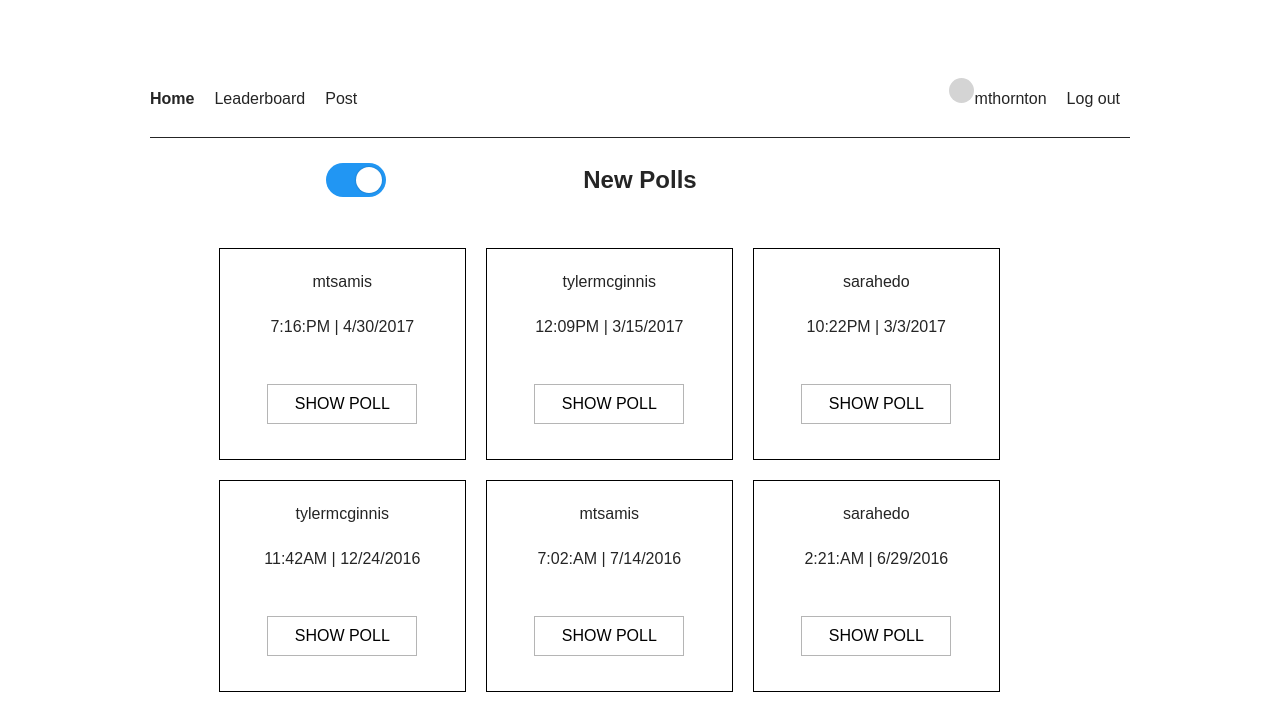
toggle displays correct view
The width and height of the screenshot is (1280, 720).
Expected: the heading "New Polls" is shown, [583,166,697,193]
Click the checkbox. click: [356, 180]
box: [326,163,386,197]
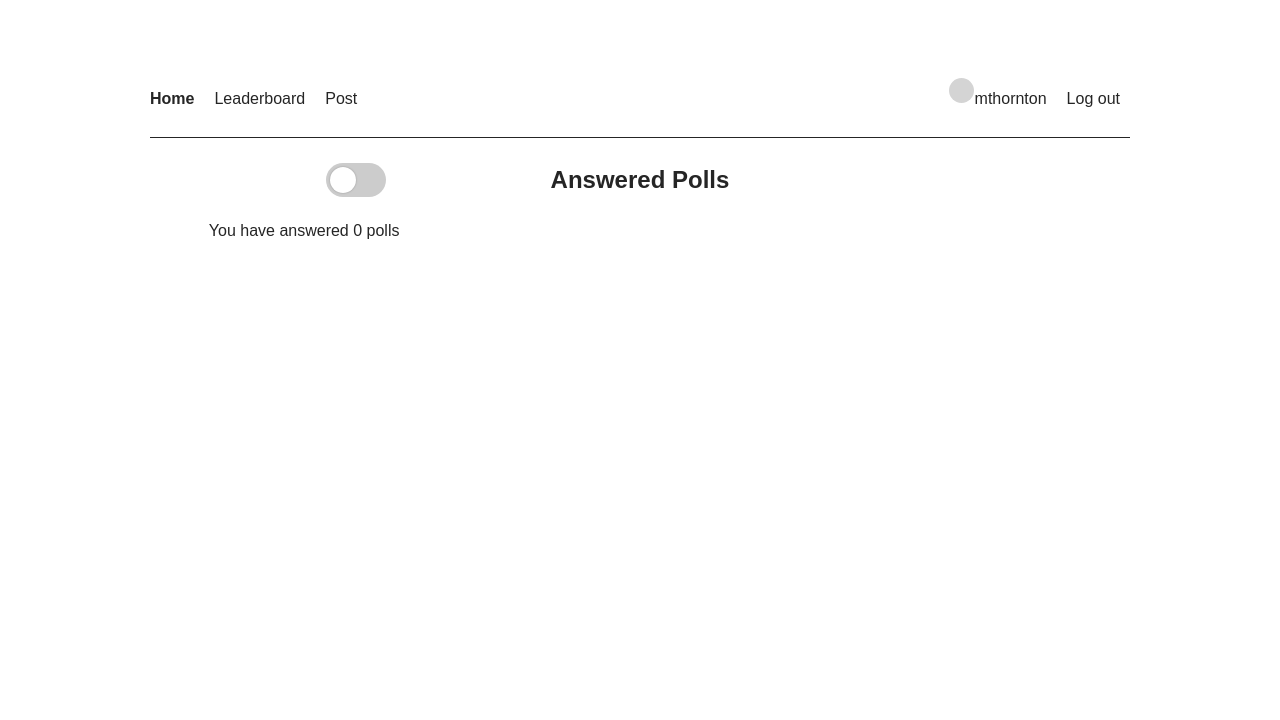
Now the heading "Answered Polls" is shown, box [551,166,729,193]
Now the heading "New Polls" is gone
Now the text "You have answered 0 polls" is shown, box [209,222,400,239]
Click the checkbox. click: [356, 180]
box: [326,163,386,197]
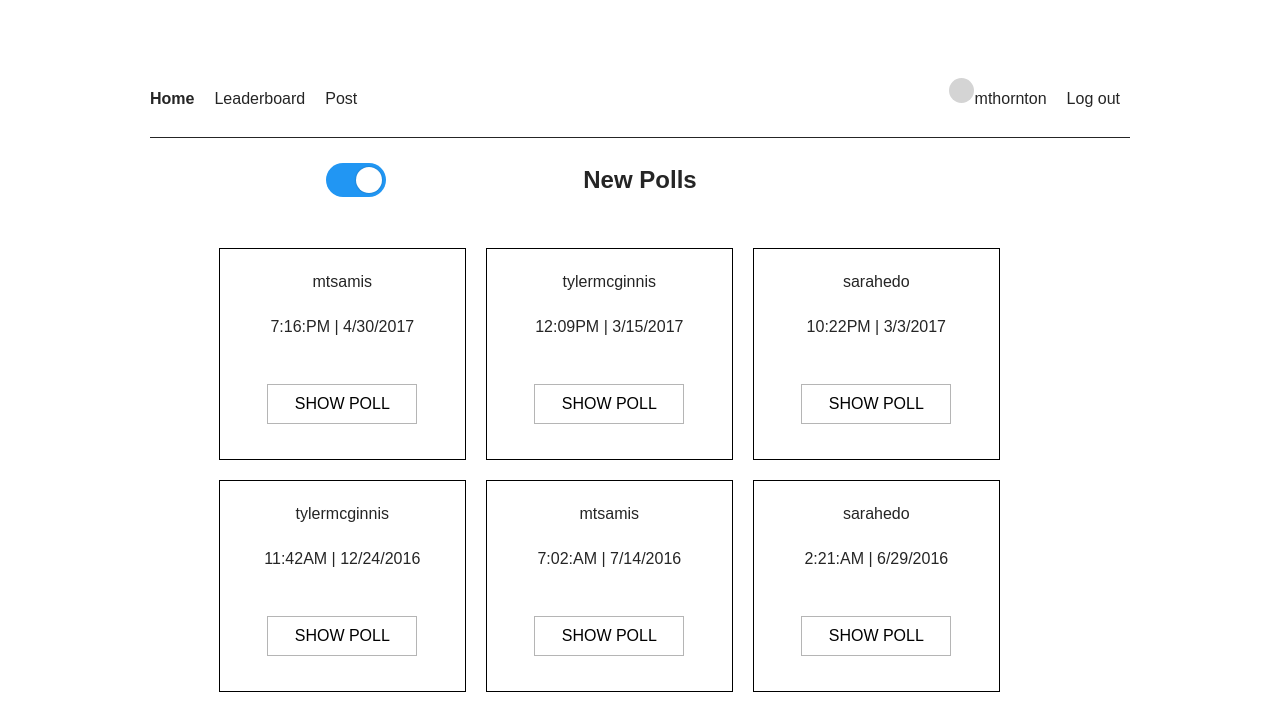
Now the heading "New Polls" is shown, box [583,166,697,193]
